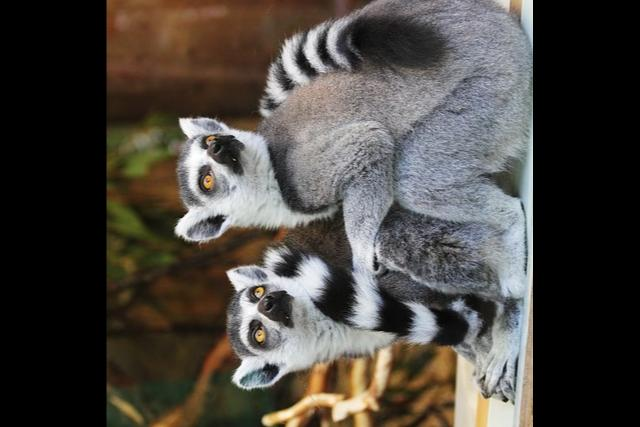Non_Gorille: (163, 0, 533, 412)
